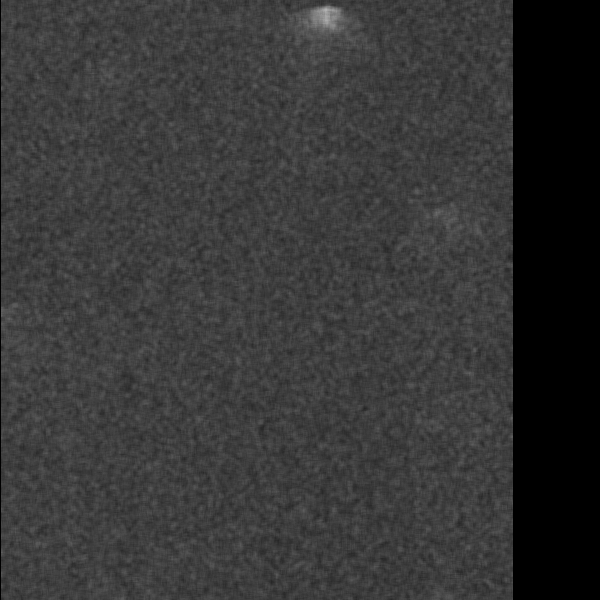spark: (202, 193, 251, 402), (232, 490, 271, 519)
